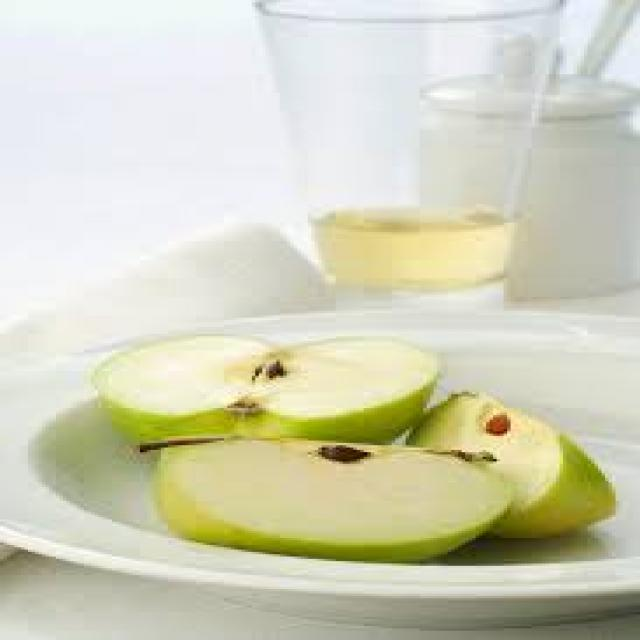Apple: (140, 433, 519, 557), (98, 333, 434, 436), (440, 385, 620, 532)
